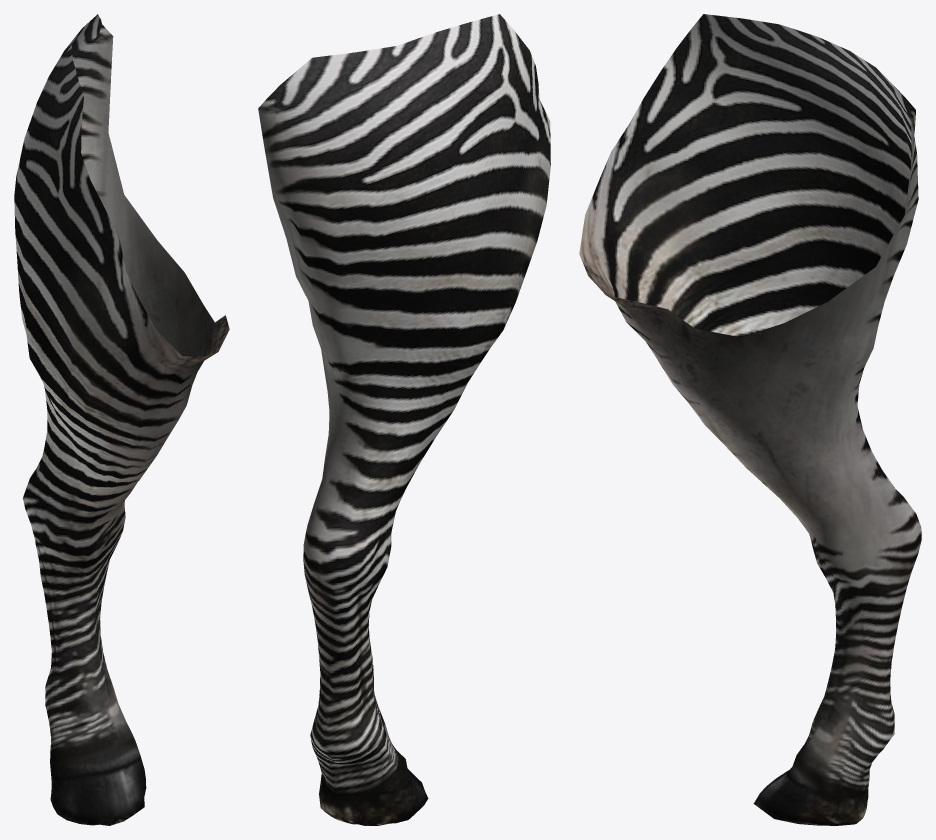
Rendered from zB_rightleg.obj.
3 renders of one model, left to right at view 1: azimuth 30°, elevation 25°; view 2: azimuth 150°, elevation 25°; view 3: azimuth 270°, elevation 25°, orthographic.
Visible parts, largest first — view 1: Object_50.004; view 2: Object_50.004; view 3: Object_50.004.
Part boxes in pixels (x1,y1,x2,y2): Object_50.004: (14, 14, 229, 825); Object_50.004: (258, 14, 550, 825); Object_50.004: (579, 14, 921, 825).
Size of the model in its own units: 6.82 by 30.89 by 12.38.
Materials: 1 (1 with a texture image).
